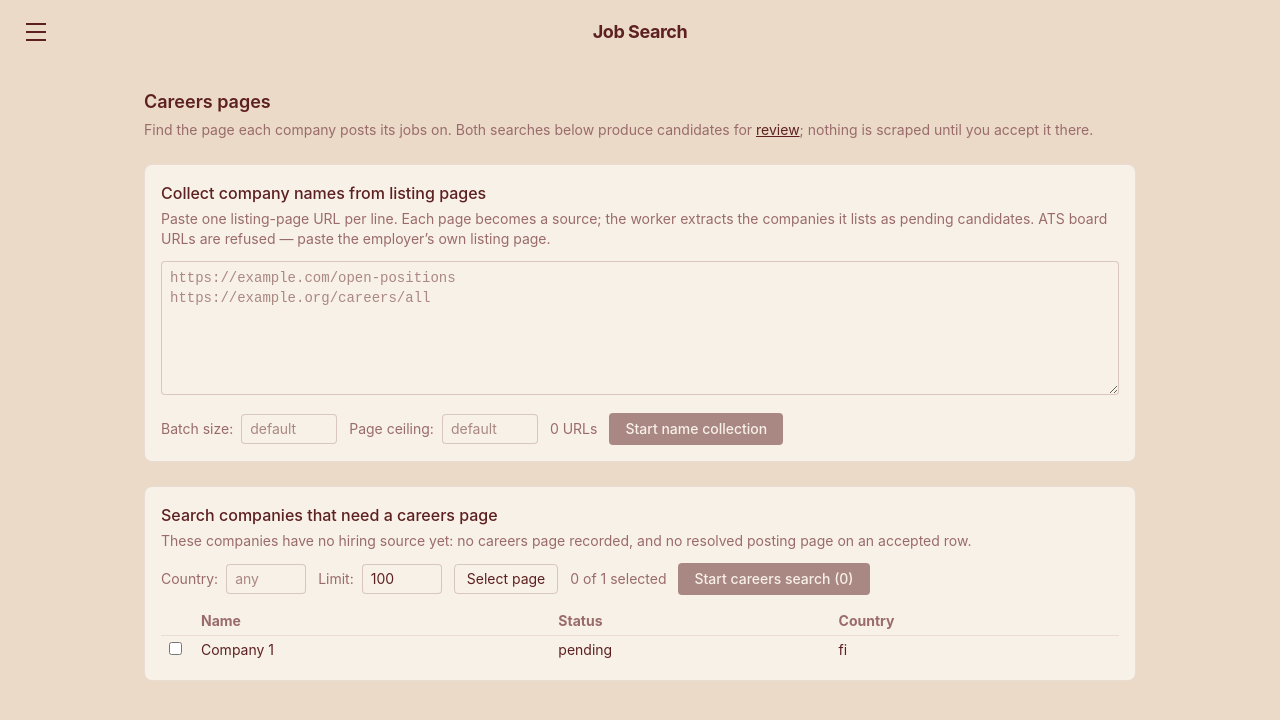
Test case: M1-UI careers-page search › refreshes the list and clears the selection on a stale 422
The width and height of the screenshot is (1280, 720).
expect the text "Company 1" is shown: met, box [193,636,550,664]
Click the button "Select page" at (506, 579), box [454,564,558,594]
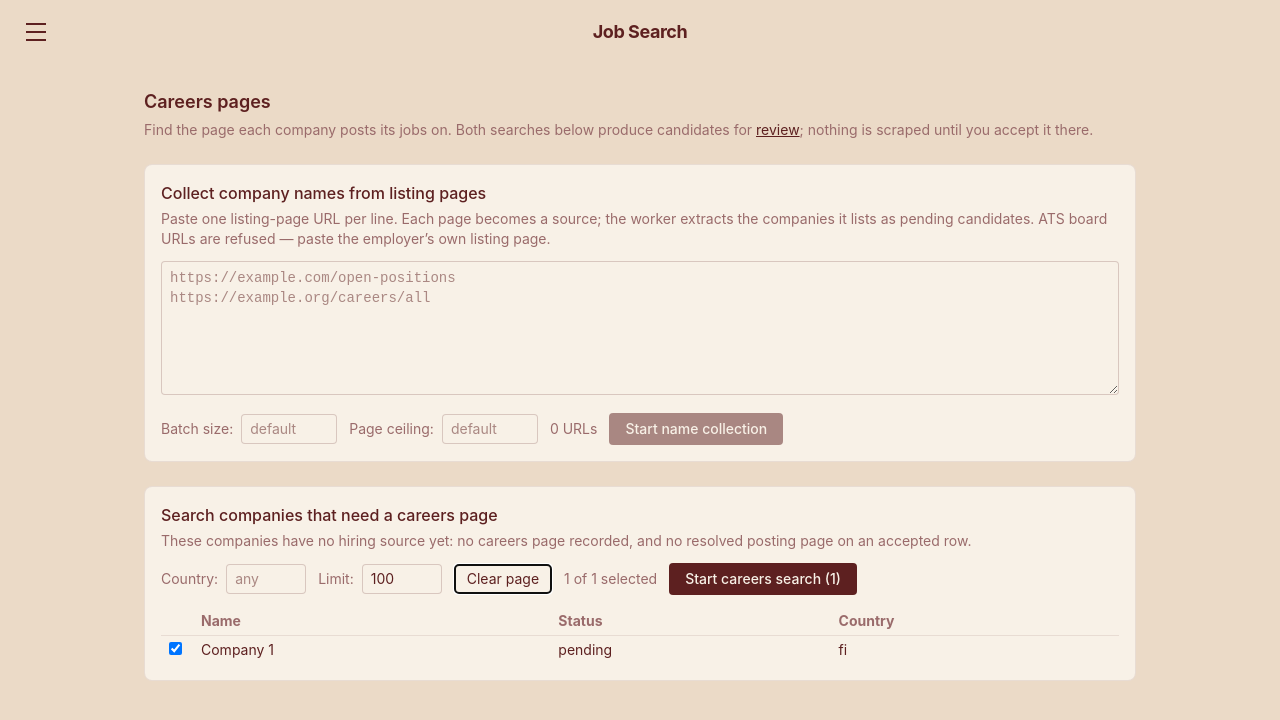
Click the button "Start careers search (1)" at (763, 579), box [669,563,857,595]
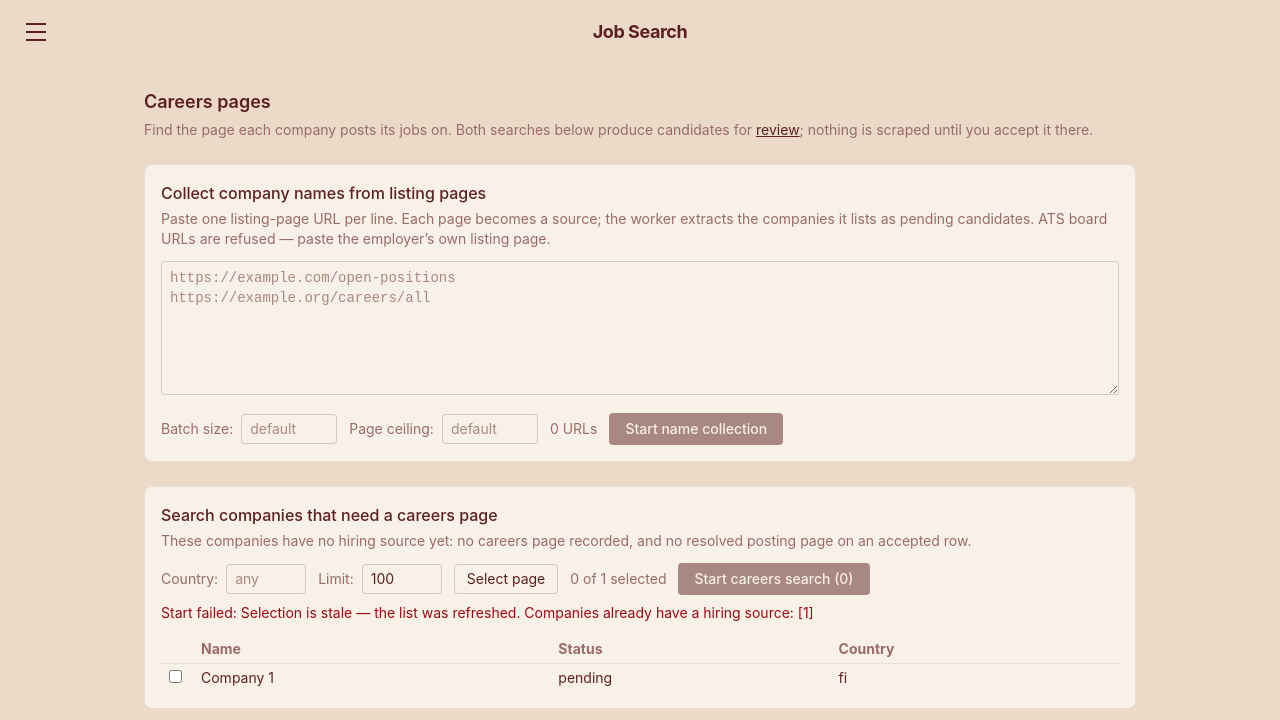
expect the text "Selection is stale" is shown: met, box [241,604,814,621]
expect the text "0 of 1 selected" is shown: met, box [570,569,666,589]
